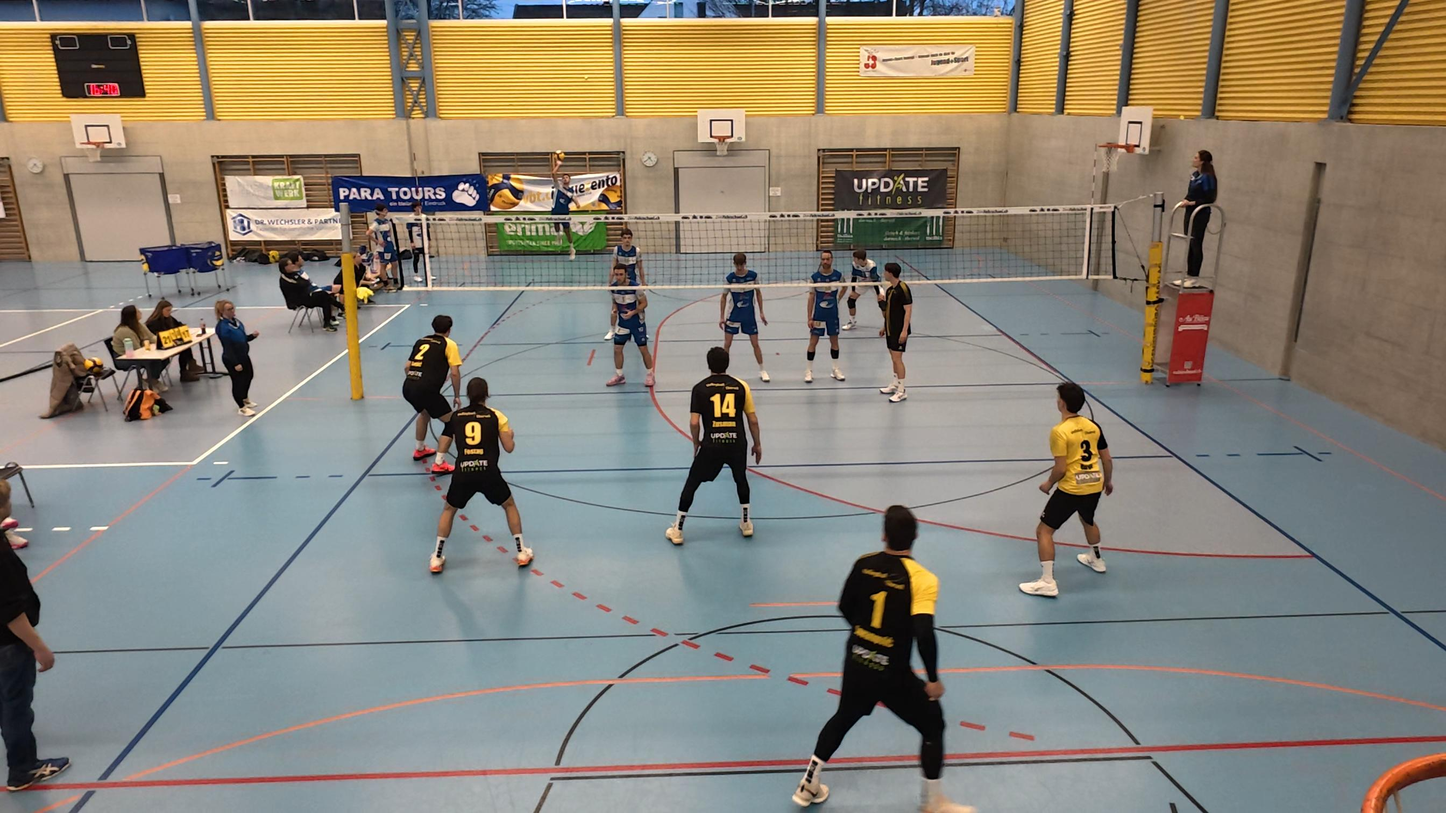battuta: (547, 152, 582, 265)
